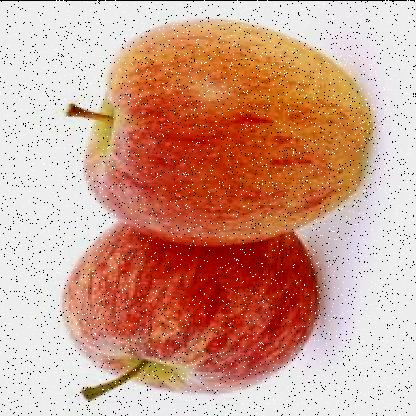apple: (79, 21, 369, 236), (62, 225, 313, 397)
